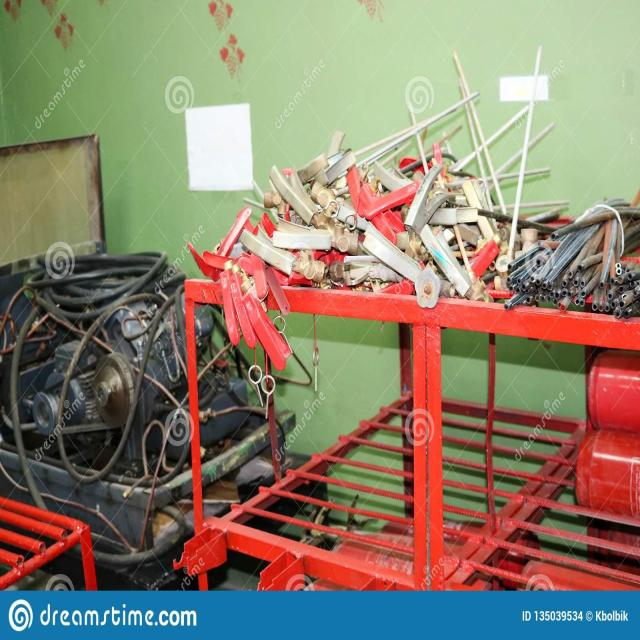fire_extinguisher: (566, 424, 640, 532), (576, 341, 640, 443)
